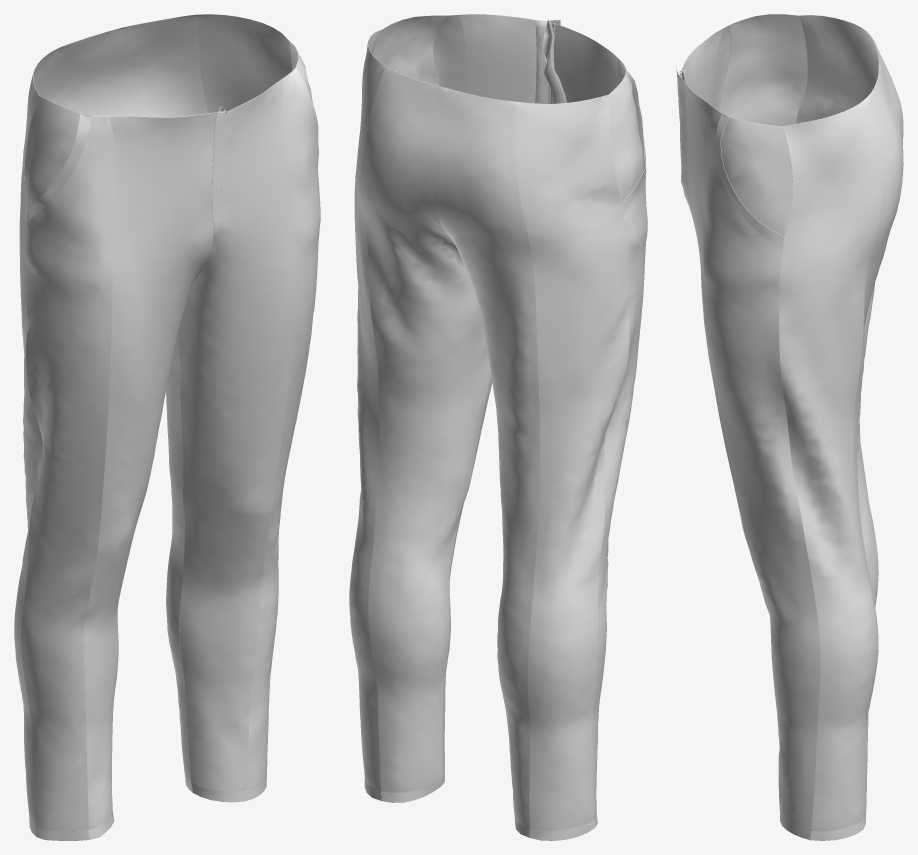
The model's file is classic.glb.
The picture shows the model from 3 angles, left to right: view 1: azimuth 30°, elevation 25°; view 2: azimuth 150°, elevation 25°; view 3: azimuth 270°, elevation 25°; orthographic projection. The views are drawn at different scales.
Parts seen in each view (by area): view 1: Classic_Node (×7), Pattern_1021232_Node; view 2: Classic_Node (×6), Pattern_1021233_Node, Pattern_1021232_Node, Pattern_2661109_Node, Pattern_2703632_Node; view 3: Classic_Node (×6), Pattern_1021232_Node, Pattern_1021233_Node.
Part boxes in pixels (x1=…): Classic_Node (×7): x1=14, y1=14, x2=320, y2=840; Pattern_1021232_Node: x1=24, y1=95, x2=92, y2=222; Classic_Node (×6): x1=349, y1=14, x2=647, y2=840; Pattern_1021233_Node: x1=373, y1=15, x2=447, y2=86; Pattern_1021232_Node: x1=609, y1=64, x2=643, y2=202; Pattern_2661109_Node: x1=542, y1=20, x2=566, y2=103; Pattern_2703632_Node: x1=534, y1=20, x2=546, y2=103; Classic_Node (×6): x1=676, y1=15, x2=903, y2=840; Pattern_1021232_Node: x1=718, y1=14, x2=807, y2=126; Pattern_1021233_Node: x1=720, y1=112, x2=792, y2=236.
Bounding box in the file's own units: 37.02 × 96.05 × 27.24.
56 materials, 4 textured.
